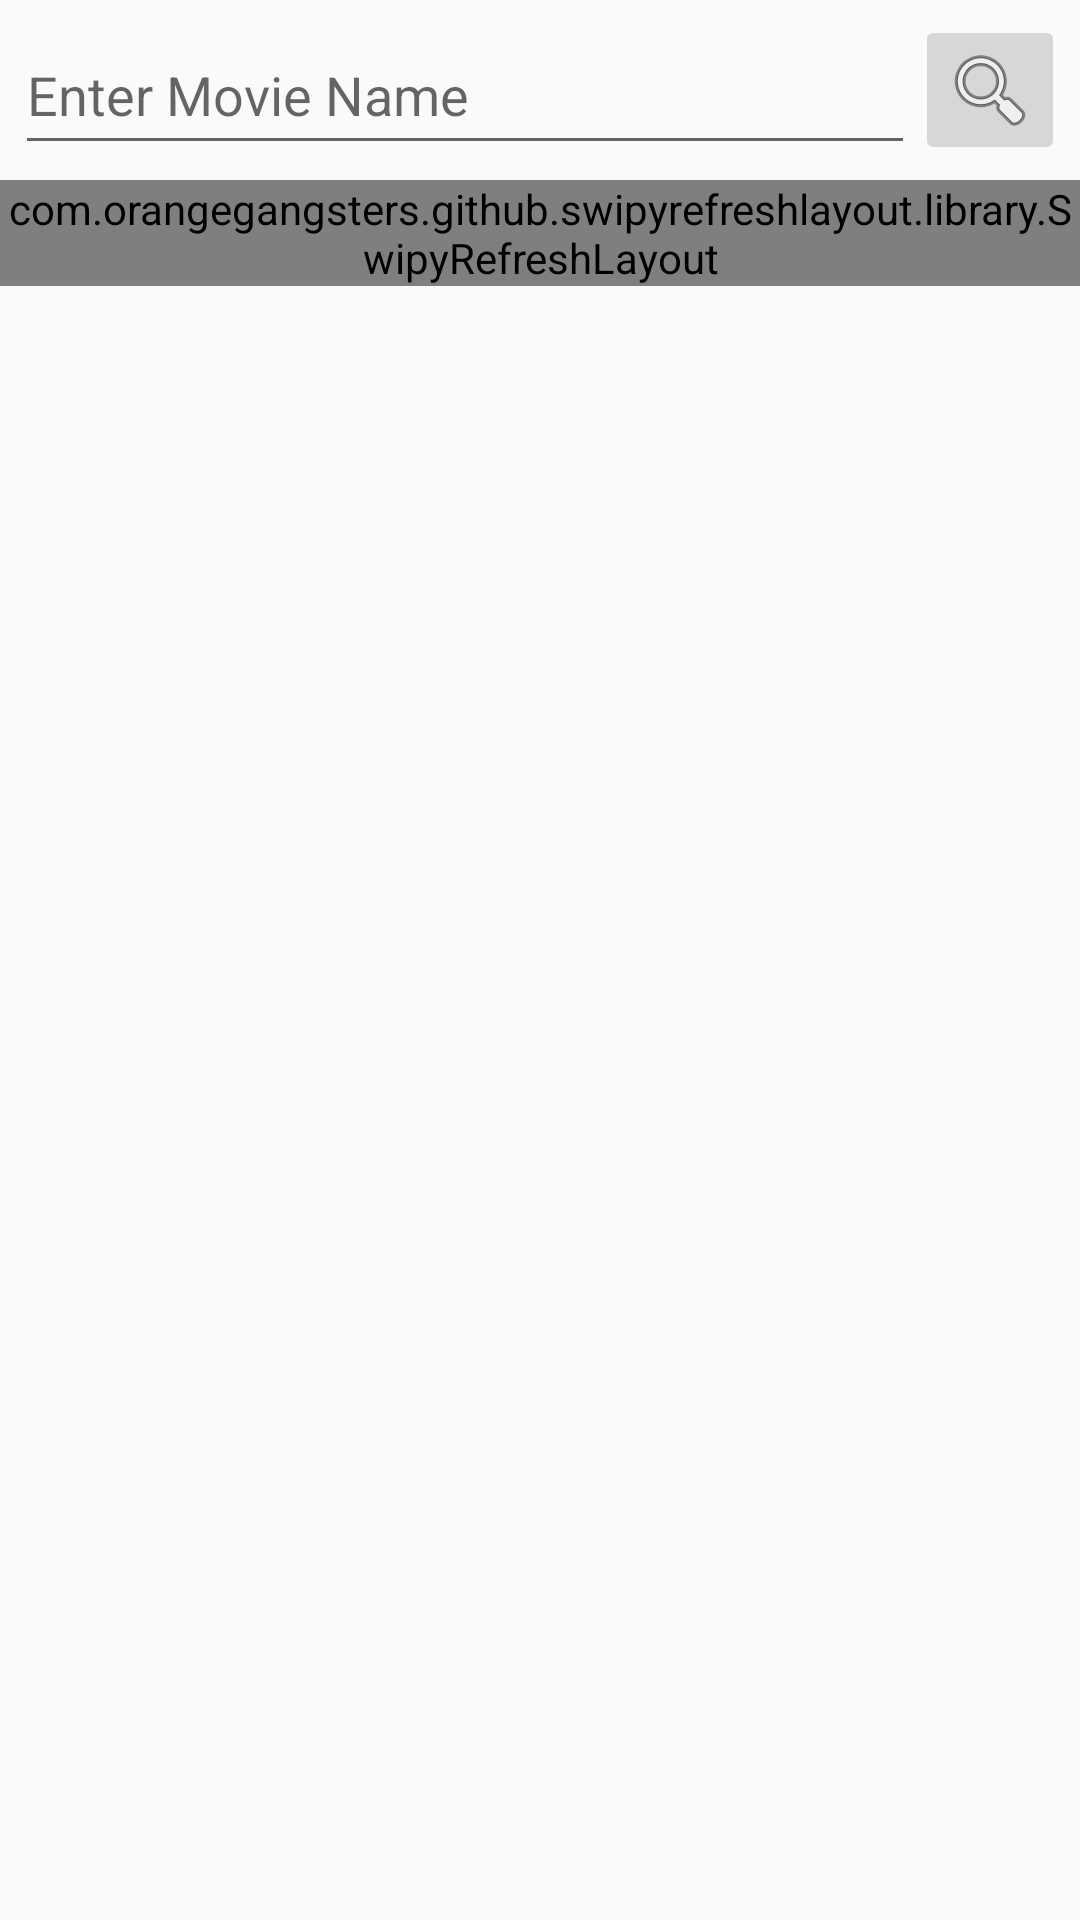

Where to tap for icons on this 1080 × 1920 app screen, as point (x, y):
search: point (990, 90)
